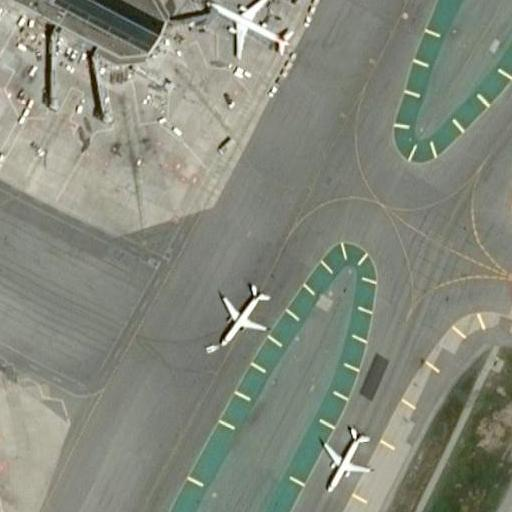Aircraft: (200, 0, 291, 65), (214, 271, 270, 346), (314, 420, 373, 491)
